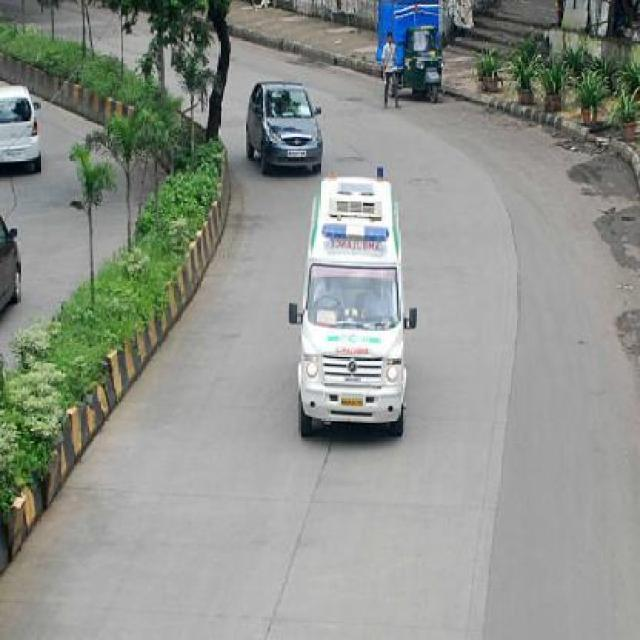Ambulance: (0, 0, 638, 638), (284, 168, 418, 444)
car: (240, 76, 326, 178), (0, 78, 45, 180), (0, 190, 25, 348)
